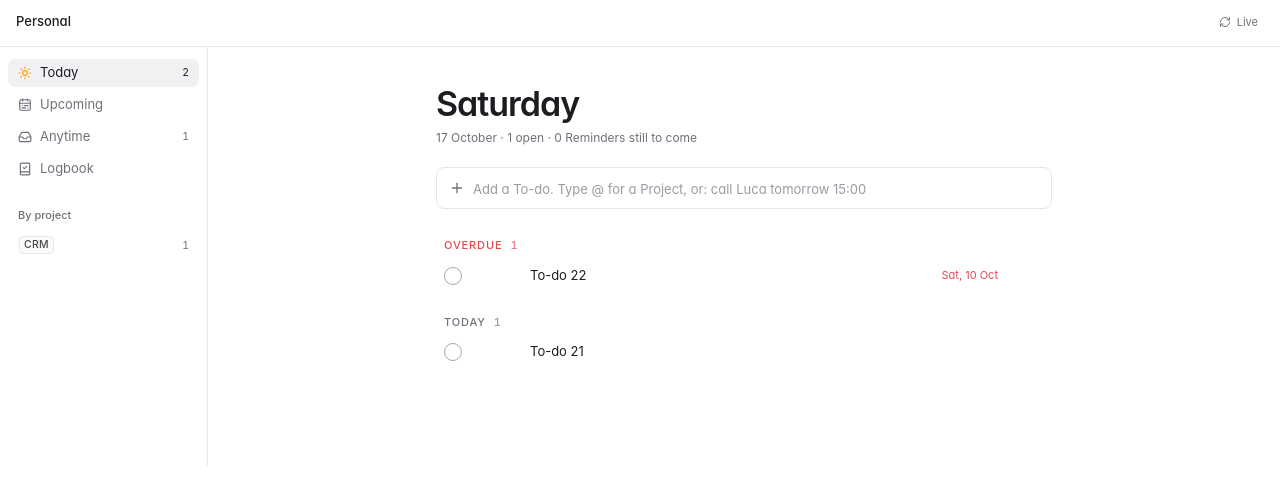
PersonalSpace › counts Today and Anytime in the list menu and opens the other lists
Expected: the button "Today 2" is shown, [8, 59, 199, 87]
Expected: the button "Anytime 1" is shown, [8, 123, 199, 151]
Click the button with aria-label "CRM, 1 open" at (104, 246), box [8, 232, 199, 260]
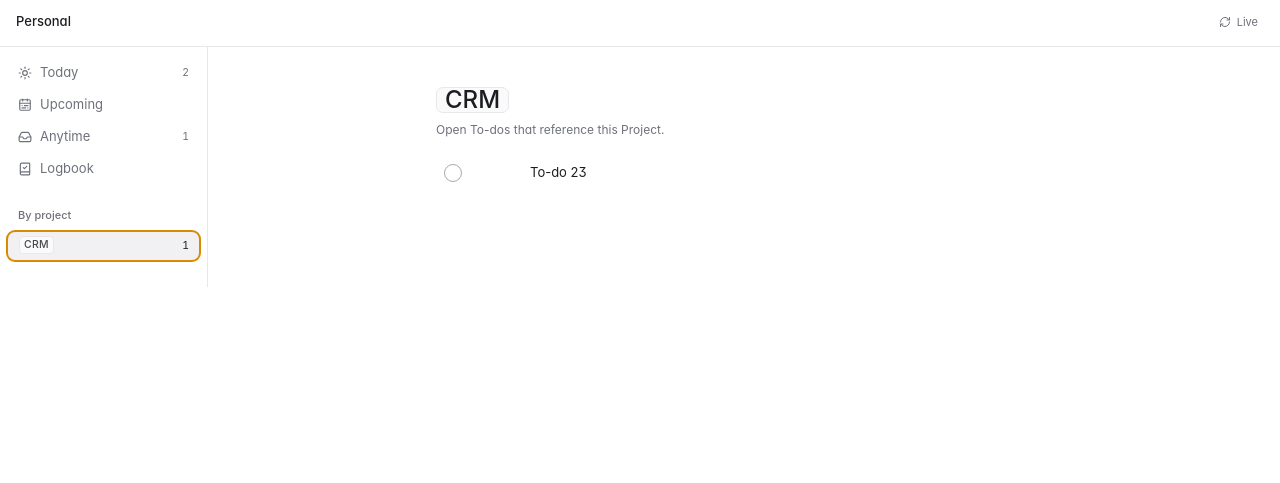
Expected: the heading "Saturday" is gone
